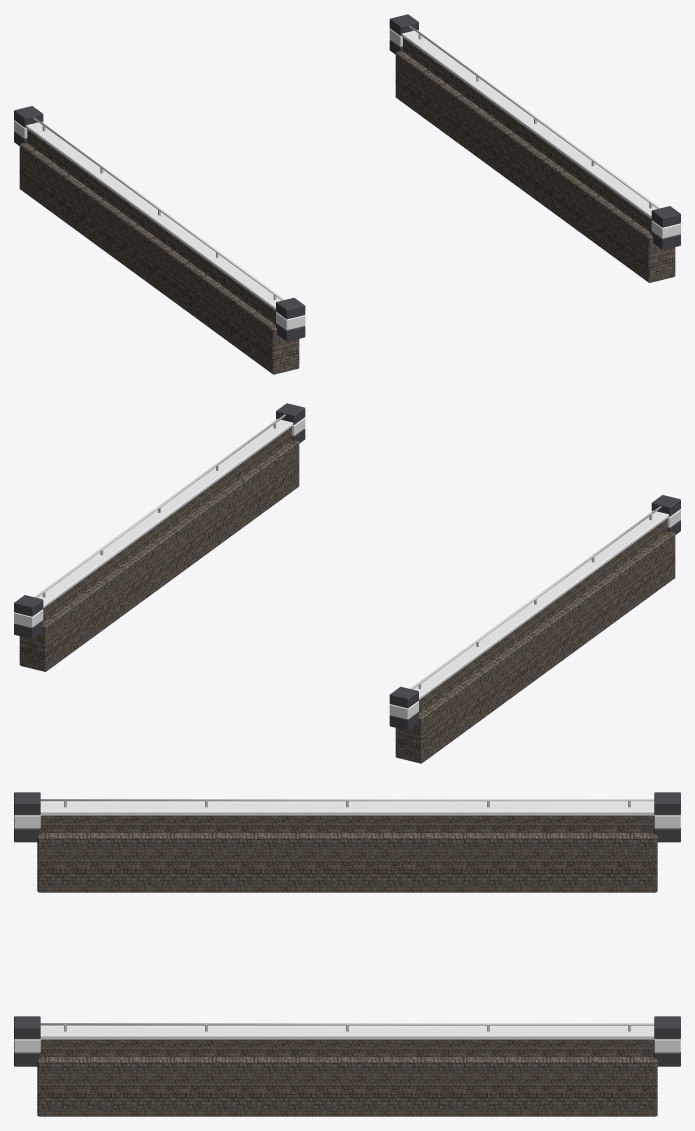
File: Kenya_Stone_Bridge_Culvert.glb
3 views of the same model, one above another, from view 1: azimuth 30°, elevation 25°; view 2: azimuth 150°, elevation 25°; view 3: azimuth 270°, elevation 25° (orthographic). The views are drawn at different scales.
Parts seen in each view (by area): view 1: Abutment_-1, Abutment_1, ParapetCap_1, ParapetCap_-1, ParapetWall_1, ParapetWall_-1, TopRail_1, TopRail_-1; view 2: Abutment_-1, Abutment_1, ParapetCap_1, ParapetCap_-1, ParapetWall_1, ParapetWall_-1, TopRail_1, TopRail_-1; view 3: Abutment_1, Abutment_-1, ParapetWall_1, ParapetWall_-1, ParapetCap_1, ParapetCap_-1, TopRail_1, TopRail_-1, EndPierB2_1_1, EndPierB2_1_-1, EndPierB2_-1_1, EndPierB2_-1_-1.
Boxes of the visible parts, x1,y1,x2,y2 form: Abutment_-1: (19, 143, 299, 374); Abutment_1: (395, 51, 675, 282); ParapetCap_1: (401, 30, 660, 218); ParapetCap_-1: (25, 121, 284, 310); ParapetWall_1: (403, 38, 651, 232); ParapetWall_-1: (27, 129, 275, 324); TopRail_1: (409, 25, 659, 208); TopRail_-1: (33, 117, 283, 300); Abutment_-1: (395, 532, 675, 763); Abutment_1: (19, 440, 299, 671); ParapetCap_1: (34, 419, 293, 607); ParapetCap_-1: (410, 510, 669, 699); ParapetWall_1: (43, 427, 291, 621); ParapetWall_-1: (419, 518, 667, 713); TopRail_1: (35, 414, 285, 597); TopRail_-1: (411, 506, 661, 689); Abutment_1: (37, 1057, 657, 1116); Abutment_-1: (37, 833, 657, 892); ParapetWall_1: (40, 1039, 654, 1056); ParapetWall_-1: (40, 815, 654, 832); ParapetCap_1: (40, 1026, 654, 1039); ParapetCap_-1: (40, 802, 654, 815); TopRail_1: (40, 1023, 654, 1025); TopRail_-1: (40, 799, 654, 801); EndPierB2_1_1: (654, 1016, 680, 1039); EndPierB2_1_-1: (14, 1016, 40, 1039); EndPierB2_-1_1: (654, 792, 680, 815); EndPierB2_-1_-1: (14, 792, 40, 815).
Size of the model in its own units: 20.15 by 3.42 by 23.65.
Materials: 4 (1 with a texture image).
